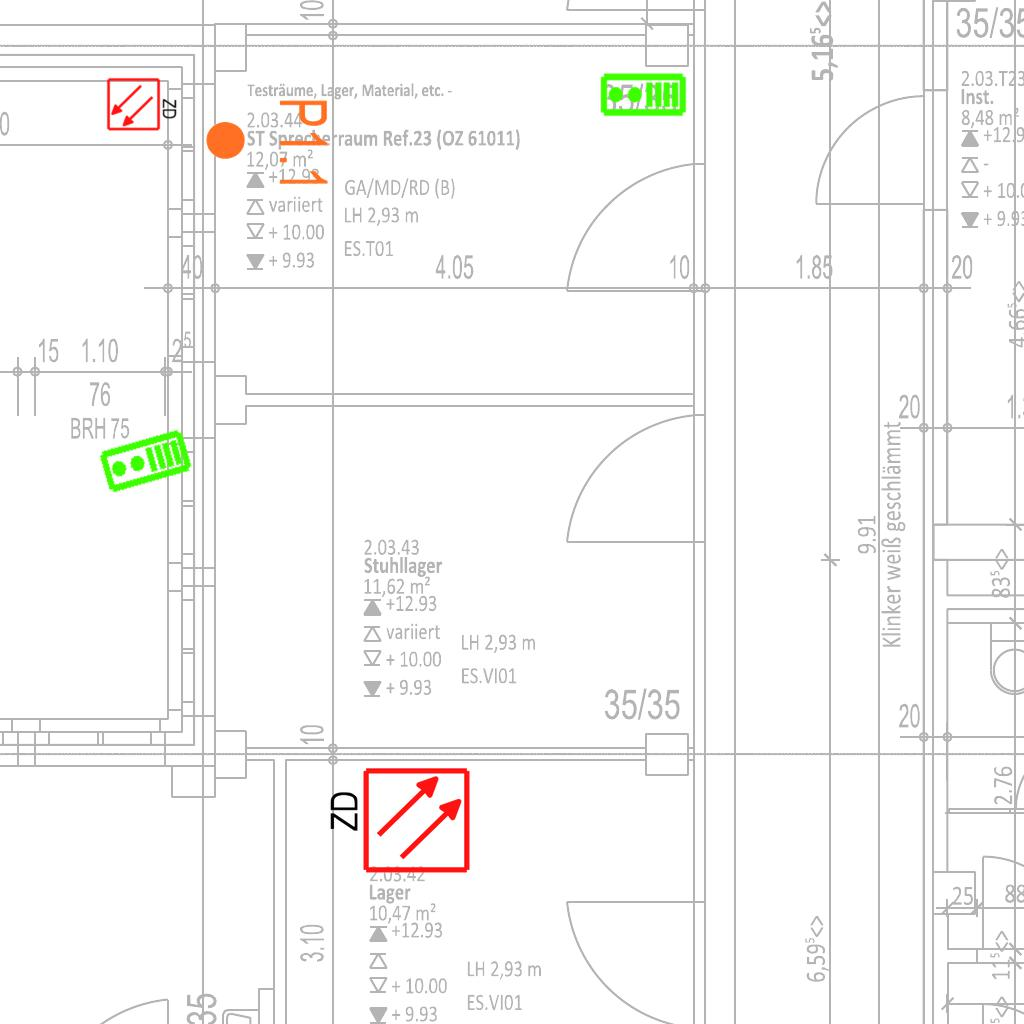Downlight_LED_Einbauleuchten_Flur: (203, 97, 331, 190)
Gegensprechanlage_mit_Video: (96, 427, 195, 497), (599, 72, 687, 119)
ZD_Melder_in_Zwischendecke_mit_Revisionsoeffnung_mind_40_x_40_cm: (323, 765, 472, 879), (106, 75, 180, 132)
